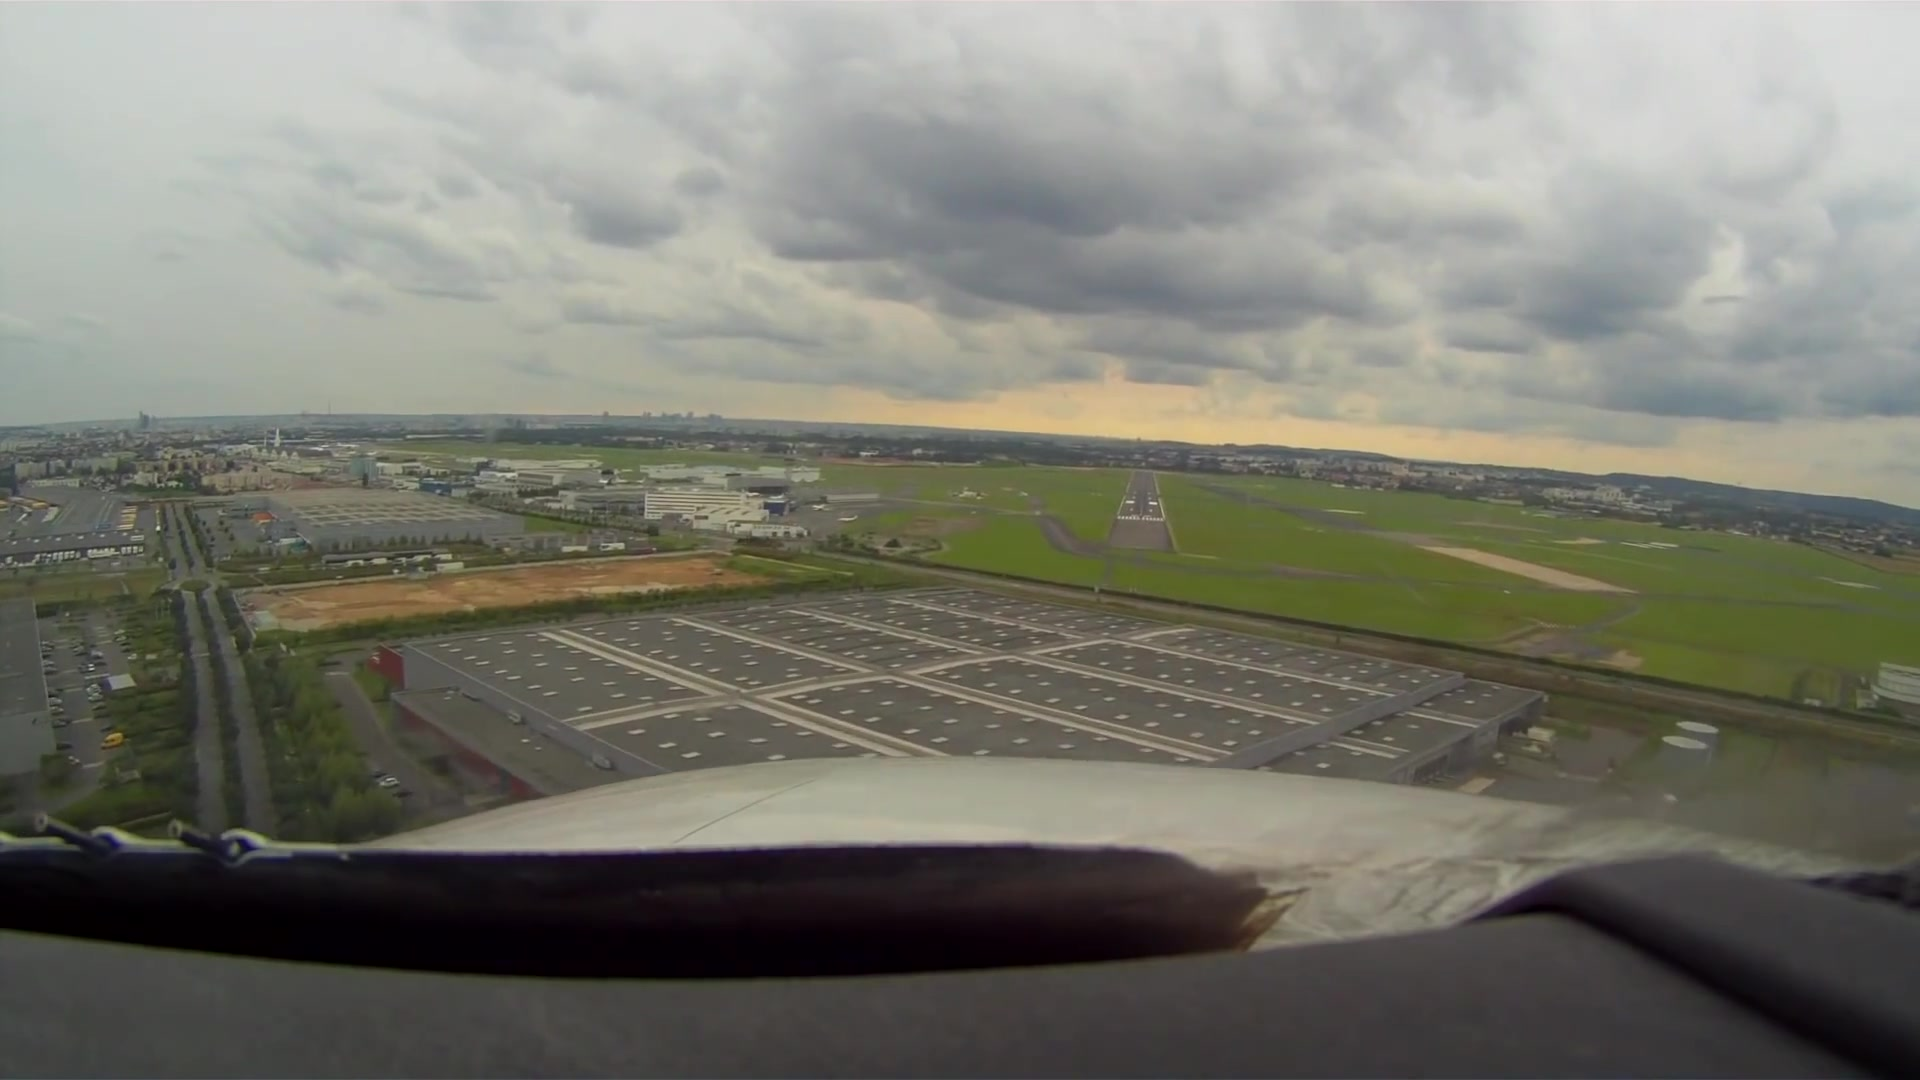entrance: (1117, 514, 1164, 524)
runway: (1113, 468, 1166, 527)
